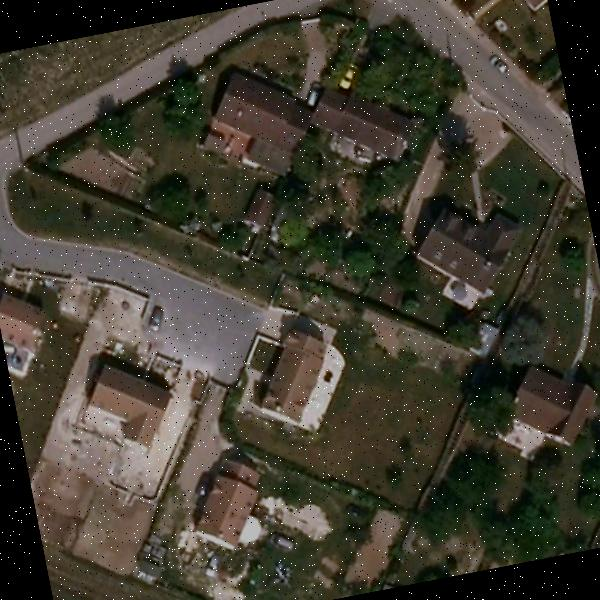Buildings: (76, 354, 194, 476), (420, 207, 520, 303), (256, 335, 346, 429), (210, 75, 301, 161), (317, 80, 408, 160), (189, 462, 264, 546), (514, 364, 589, 447), (0, 279, 52, 376), (494, 0, 548, 14)
